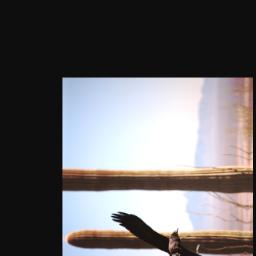Crow: (107, 210, 224, 256)
